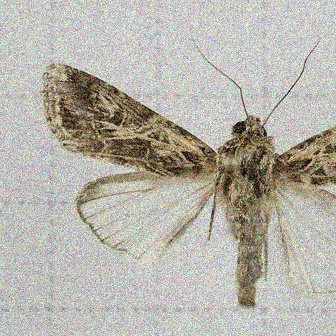Spodoptera litura: (40, 37, 336, 312)
